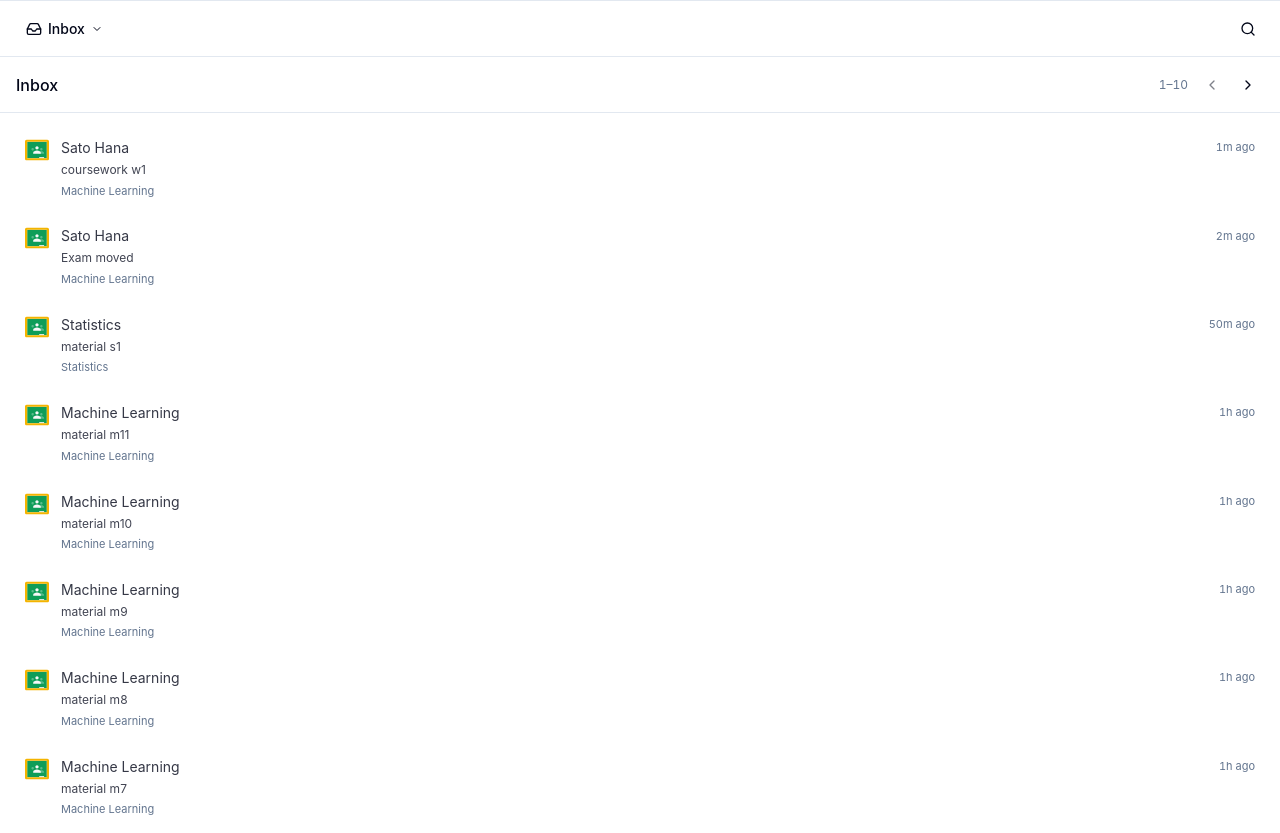
Test: DashboardInbox mail › pages the Inbox past the conversations it holds while Gmail has more
Expected: the text "1–10" is shown, [1159, 76, 1188, 92]
Click the button named "Next page": (1248, 84) [1232, 68, 1264, 100]
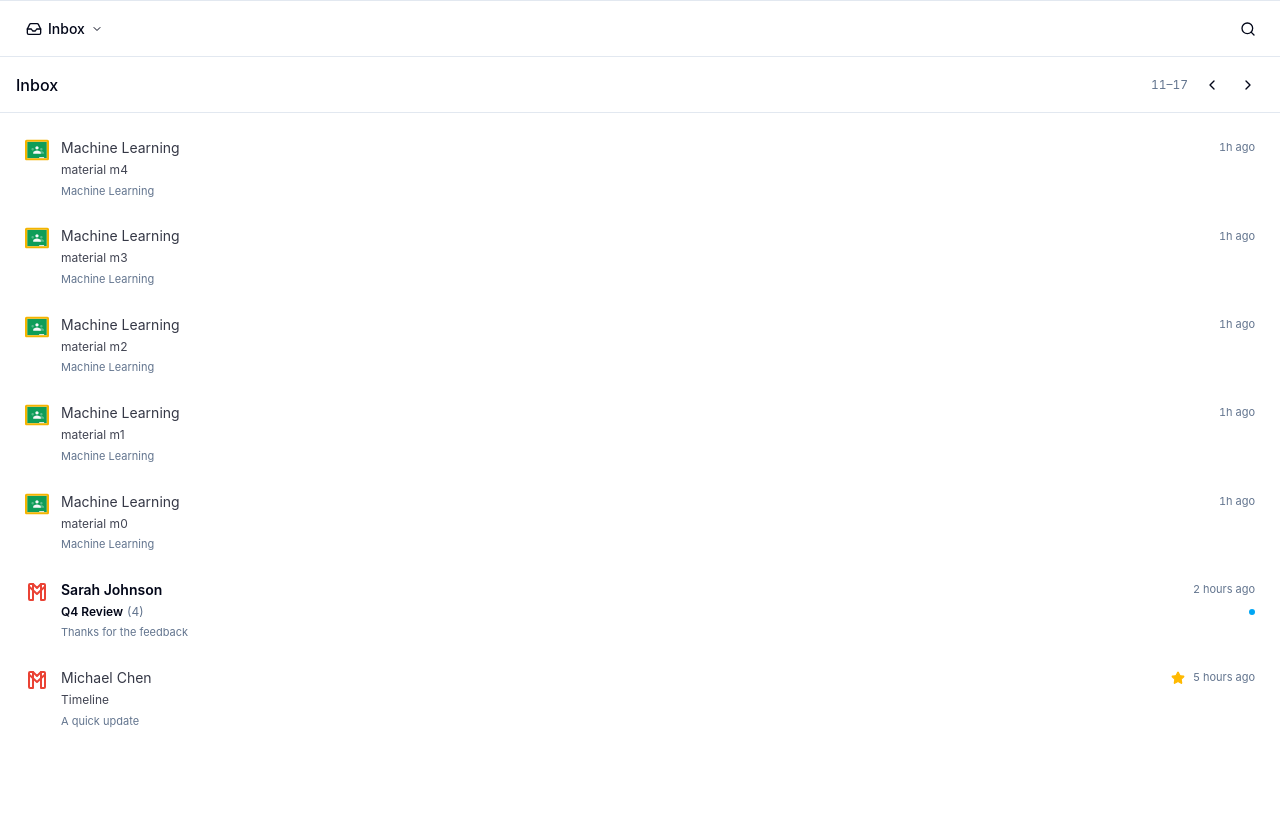
Now the text "11–17" is shown, box [1151, 76, 1188, 92]
